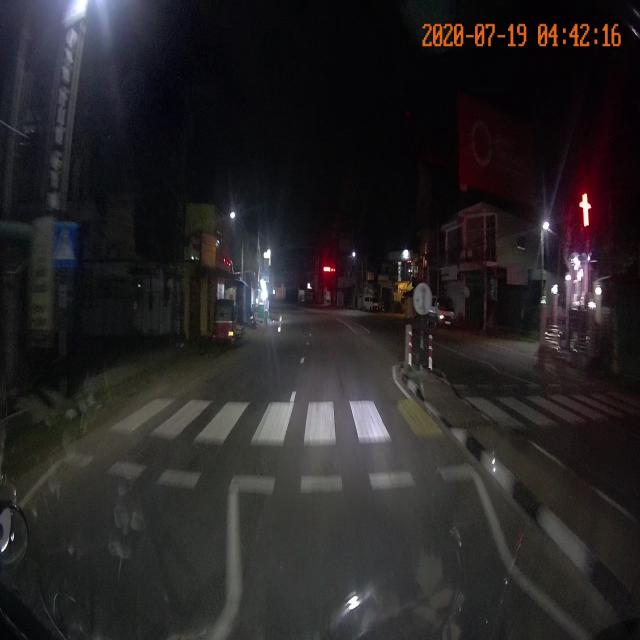Crosswalk: (46, 375, 639, 505)
